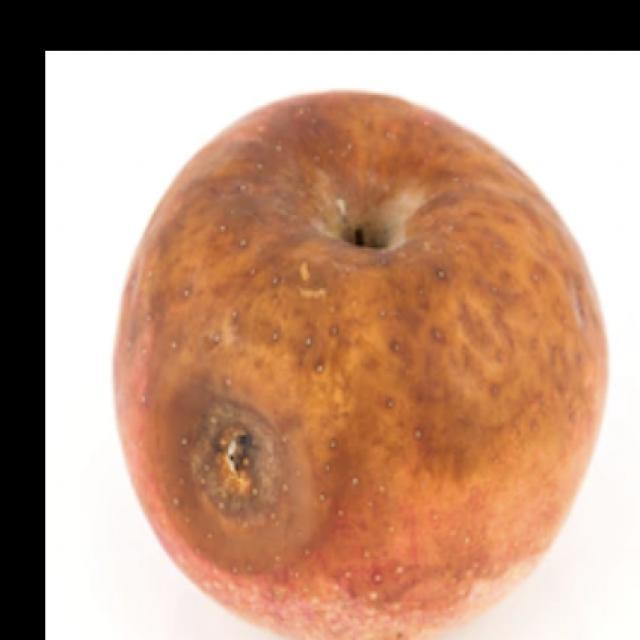Rotten: (107, 85, 613, 640)
